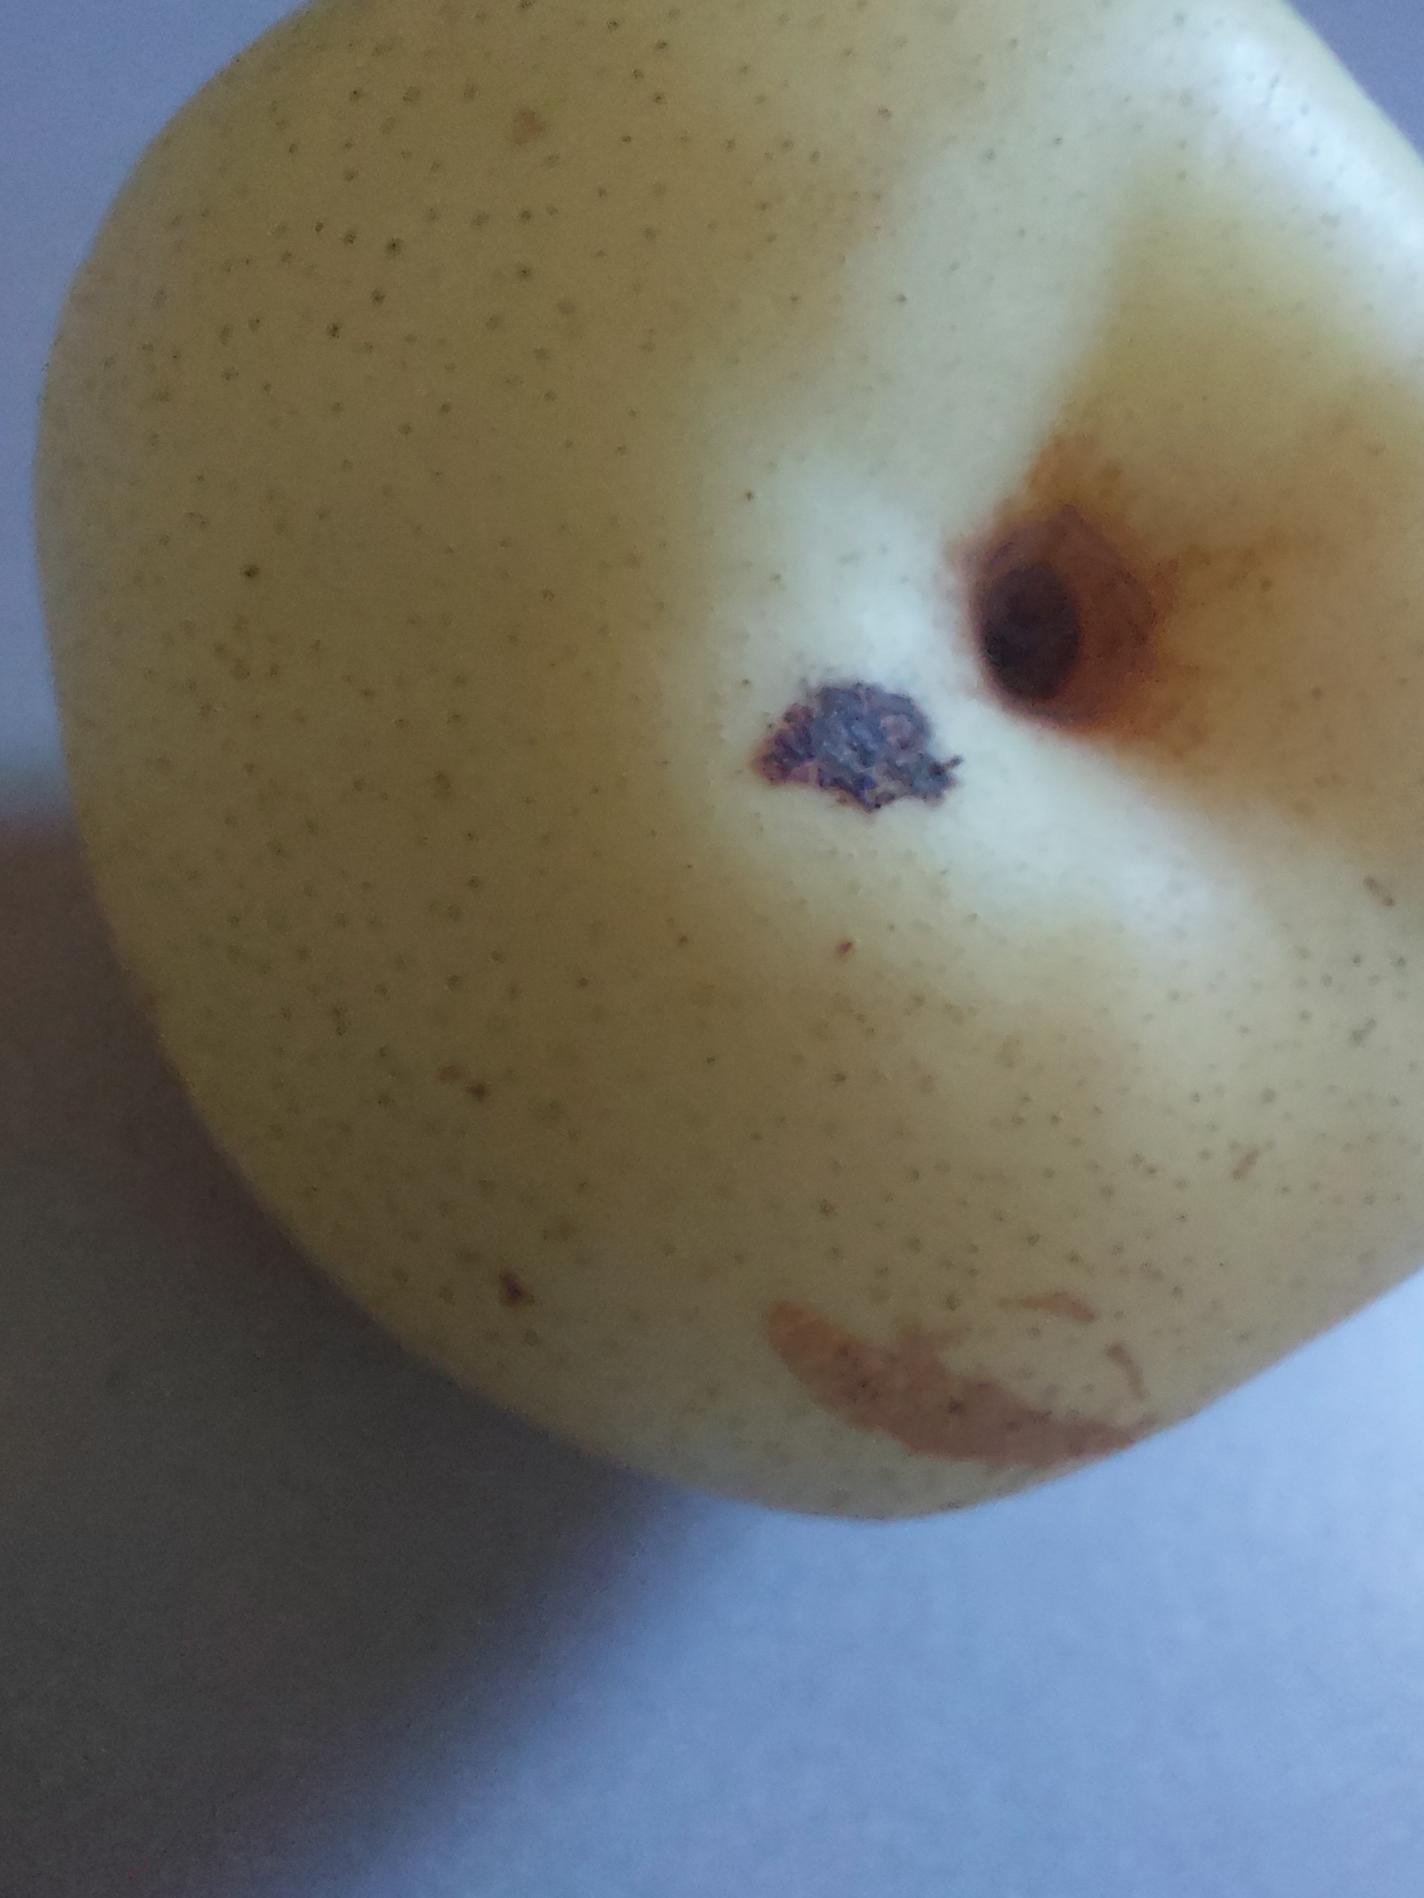Good Pear: (0, 0, 1424, 1567)
